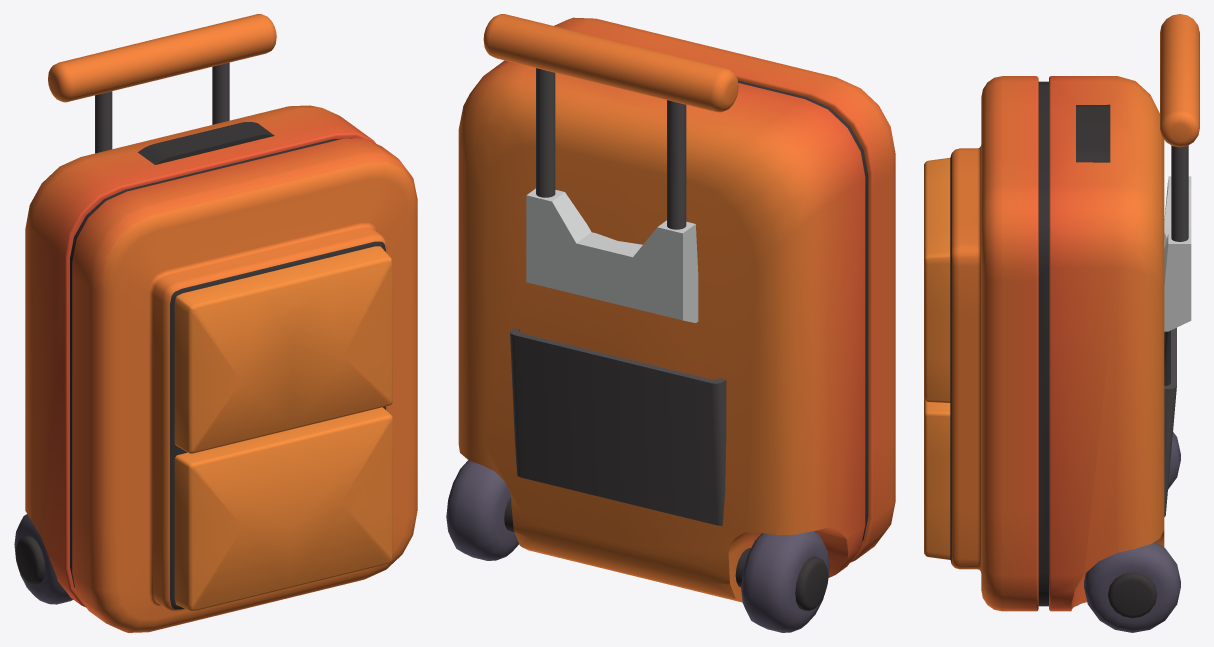
Rendered from Baggage_4_Orange.fbx.
3 renders of one model, left to right at view 1: azimuth 30°, elevation 25°; view 2: azimuth 150°, elevation 25°; view 3: azimuth 270°, elevation 25°, orthographic. The views are drawn at different scales.
Visible parts, largest first — view 1: Baggage_4_Orange; view 2: Baggage_4_Orange; view 3: Baggage_4_Orange.
Boxes of the visible parts, x1,y1,x2,y2 form: Baggage_4_Orange: (14, 14, 417, 632); Baggage_4_Orange: (446, 14, 895, 632); Baggage_4_Orange: (924, 14, 1199, 632).
Bounding box in the file's own units: 62.48 × 93.72 × 46.68.
